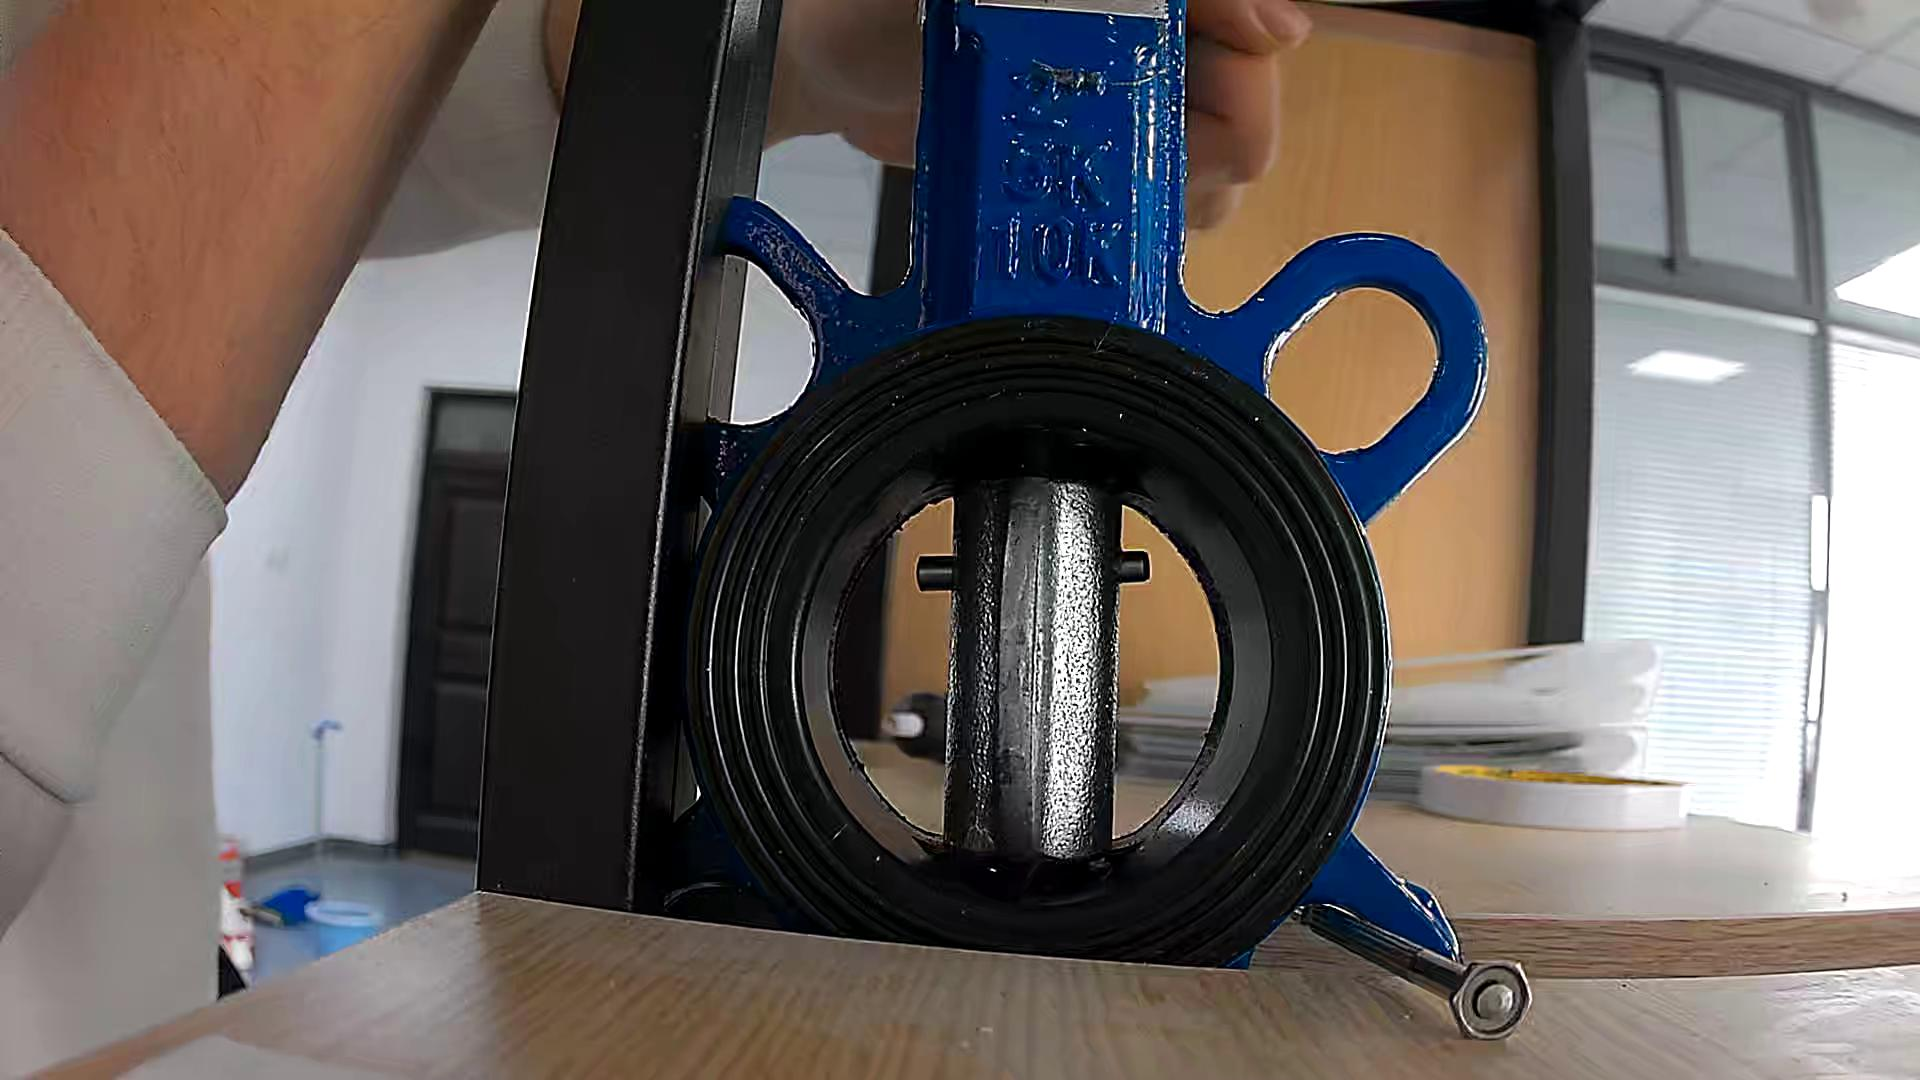valve: (945, 476, 1121, 858)
